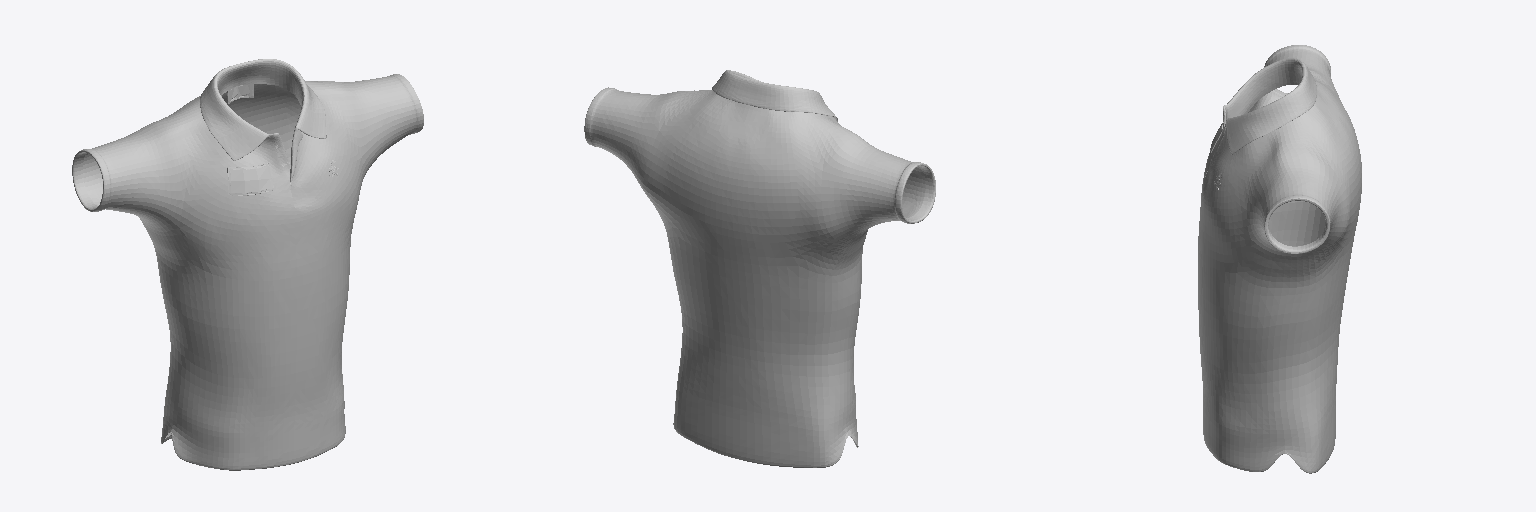
The model's file is blacktshirt.obj.
The picture shows the model from 3 angles: view 1: azimuth 30°, elevation 25°; view 2: azimuth 150°, elevation 25°; view 3: azimuth 270°, elevation 25°; orthographic projection.
Visible parts, largest first — view 1: Box001; view 2: Box001; view 3: Box001.
Boxes of the visible parts, box(x1,y1,x2,y2) form: Box001: box(72, 59, 423, 470); Box001: box(584, 70, 935, 467); Box001: box(1198, 45, 1361, 473).
Bounding box in the file's own units: 0.4006 × 0.4336 × 0.1752.